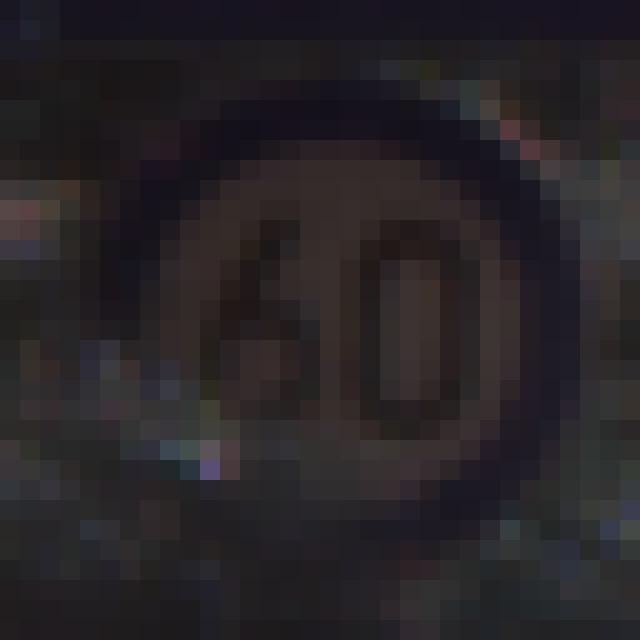SPEED-LIMIT-60: (74, 72, 594, 588)
